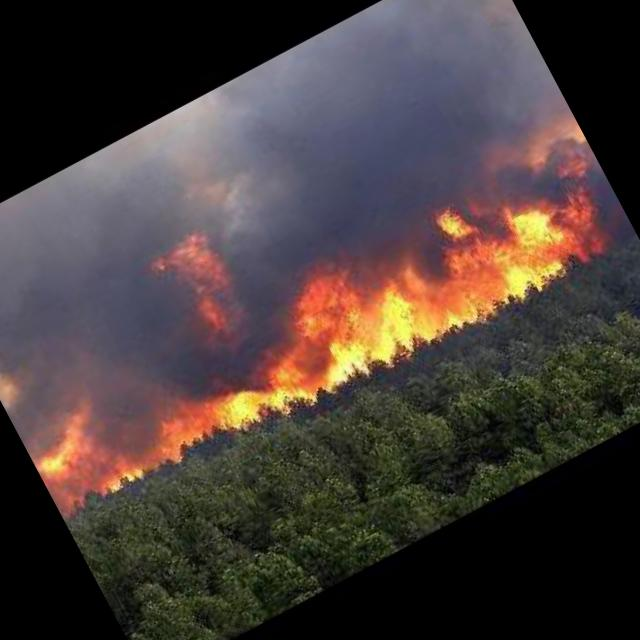fire: (106, 130, 626, 489), (13, 384, 144, 522)
